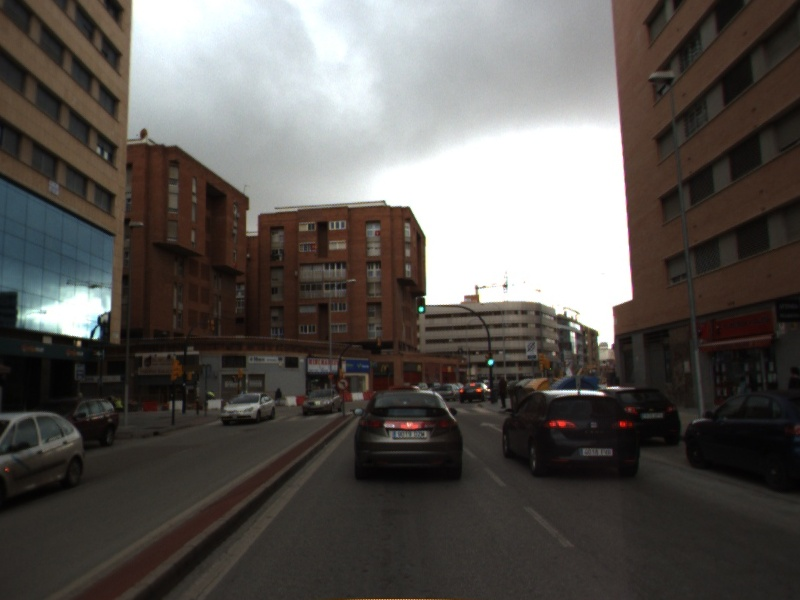STRAIGHT: (478, 420, 505, 433)
